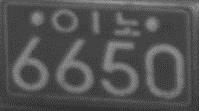0: (143, 42, 185, 100), (51, 6, 79, 34)
1: (85, 8, 108, 34)
5: (99, 39, 139, 98)
6: (54, 37, 94, 95), (11, 35, 49, 92)
노: (113, 9, 141, 37)
